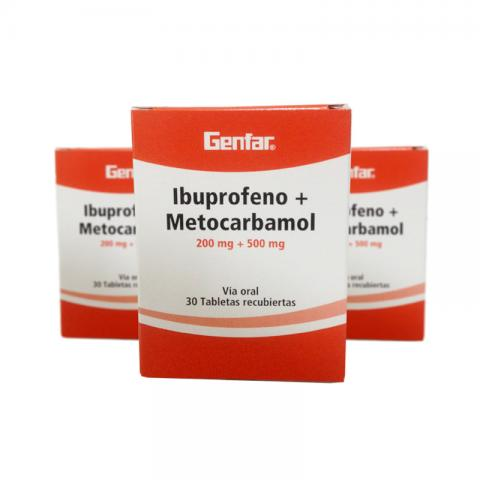Genfar: (132, 108, 345, 383)
